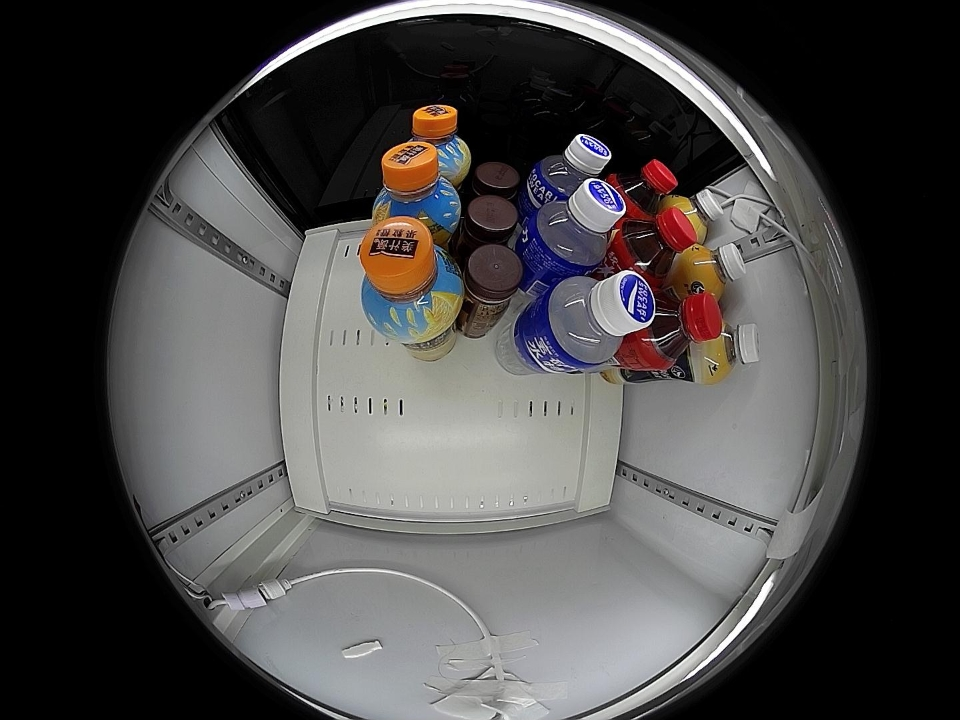asamu: (694, 319, 760, 382), (685, 242, 747, 299), (670, 188, 724, 242)
baokuangli: (536, 269, 656, 371), (525, 177, 626, 275), (530, 134, 611, 201)
binghongcha: (638, 291, 722, 370), (617, 207, 698, 284), (612, 158, 678, 219)
guolicheng: (359, 217, 463, 339), (373, 142, 463, 235), (409, 104, 470, 178)
lujikafei: (463, 244, 524, 312), (460, 195, 519, 248), (470, 161, 522, 203)
